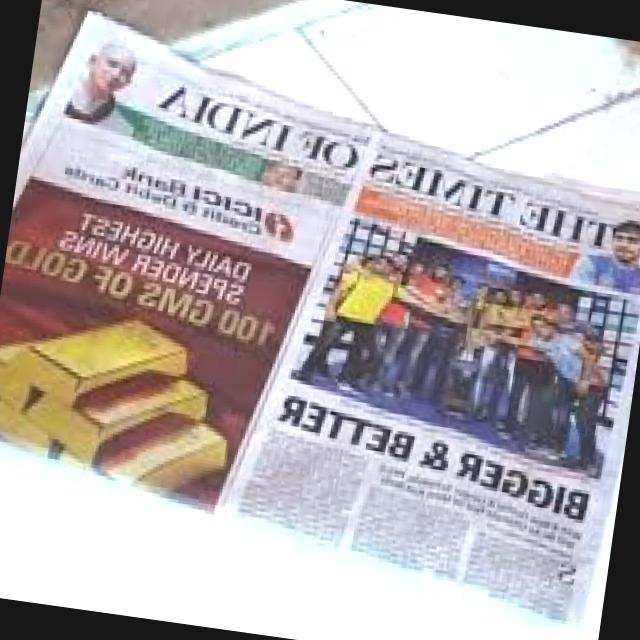paper: (0, 104, 640, 561)
